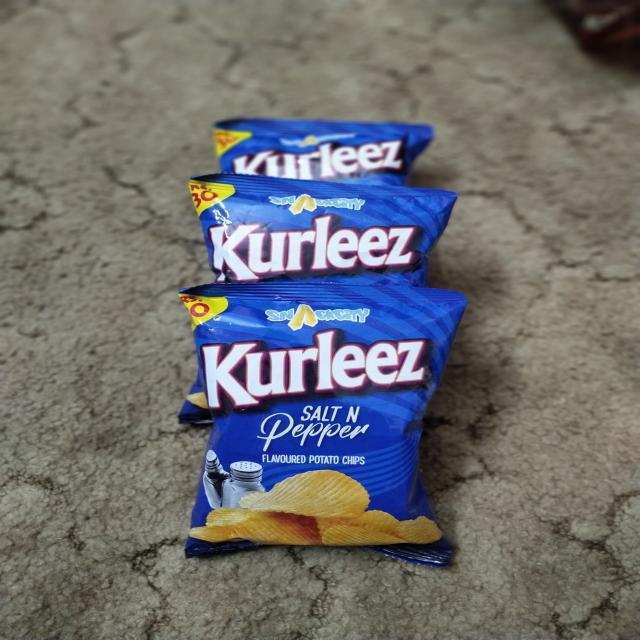Plastic: (175, 277, 466, 564), (184, 172, 451, 284), (205, 117, 437, 183)
